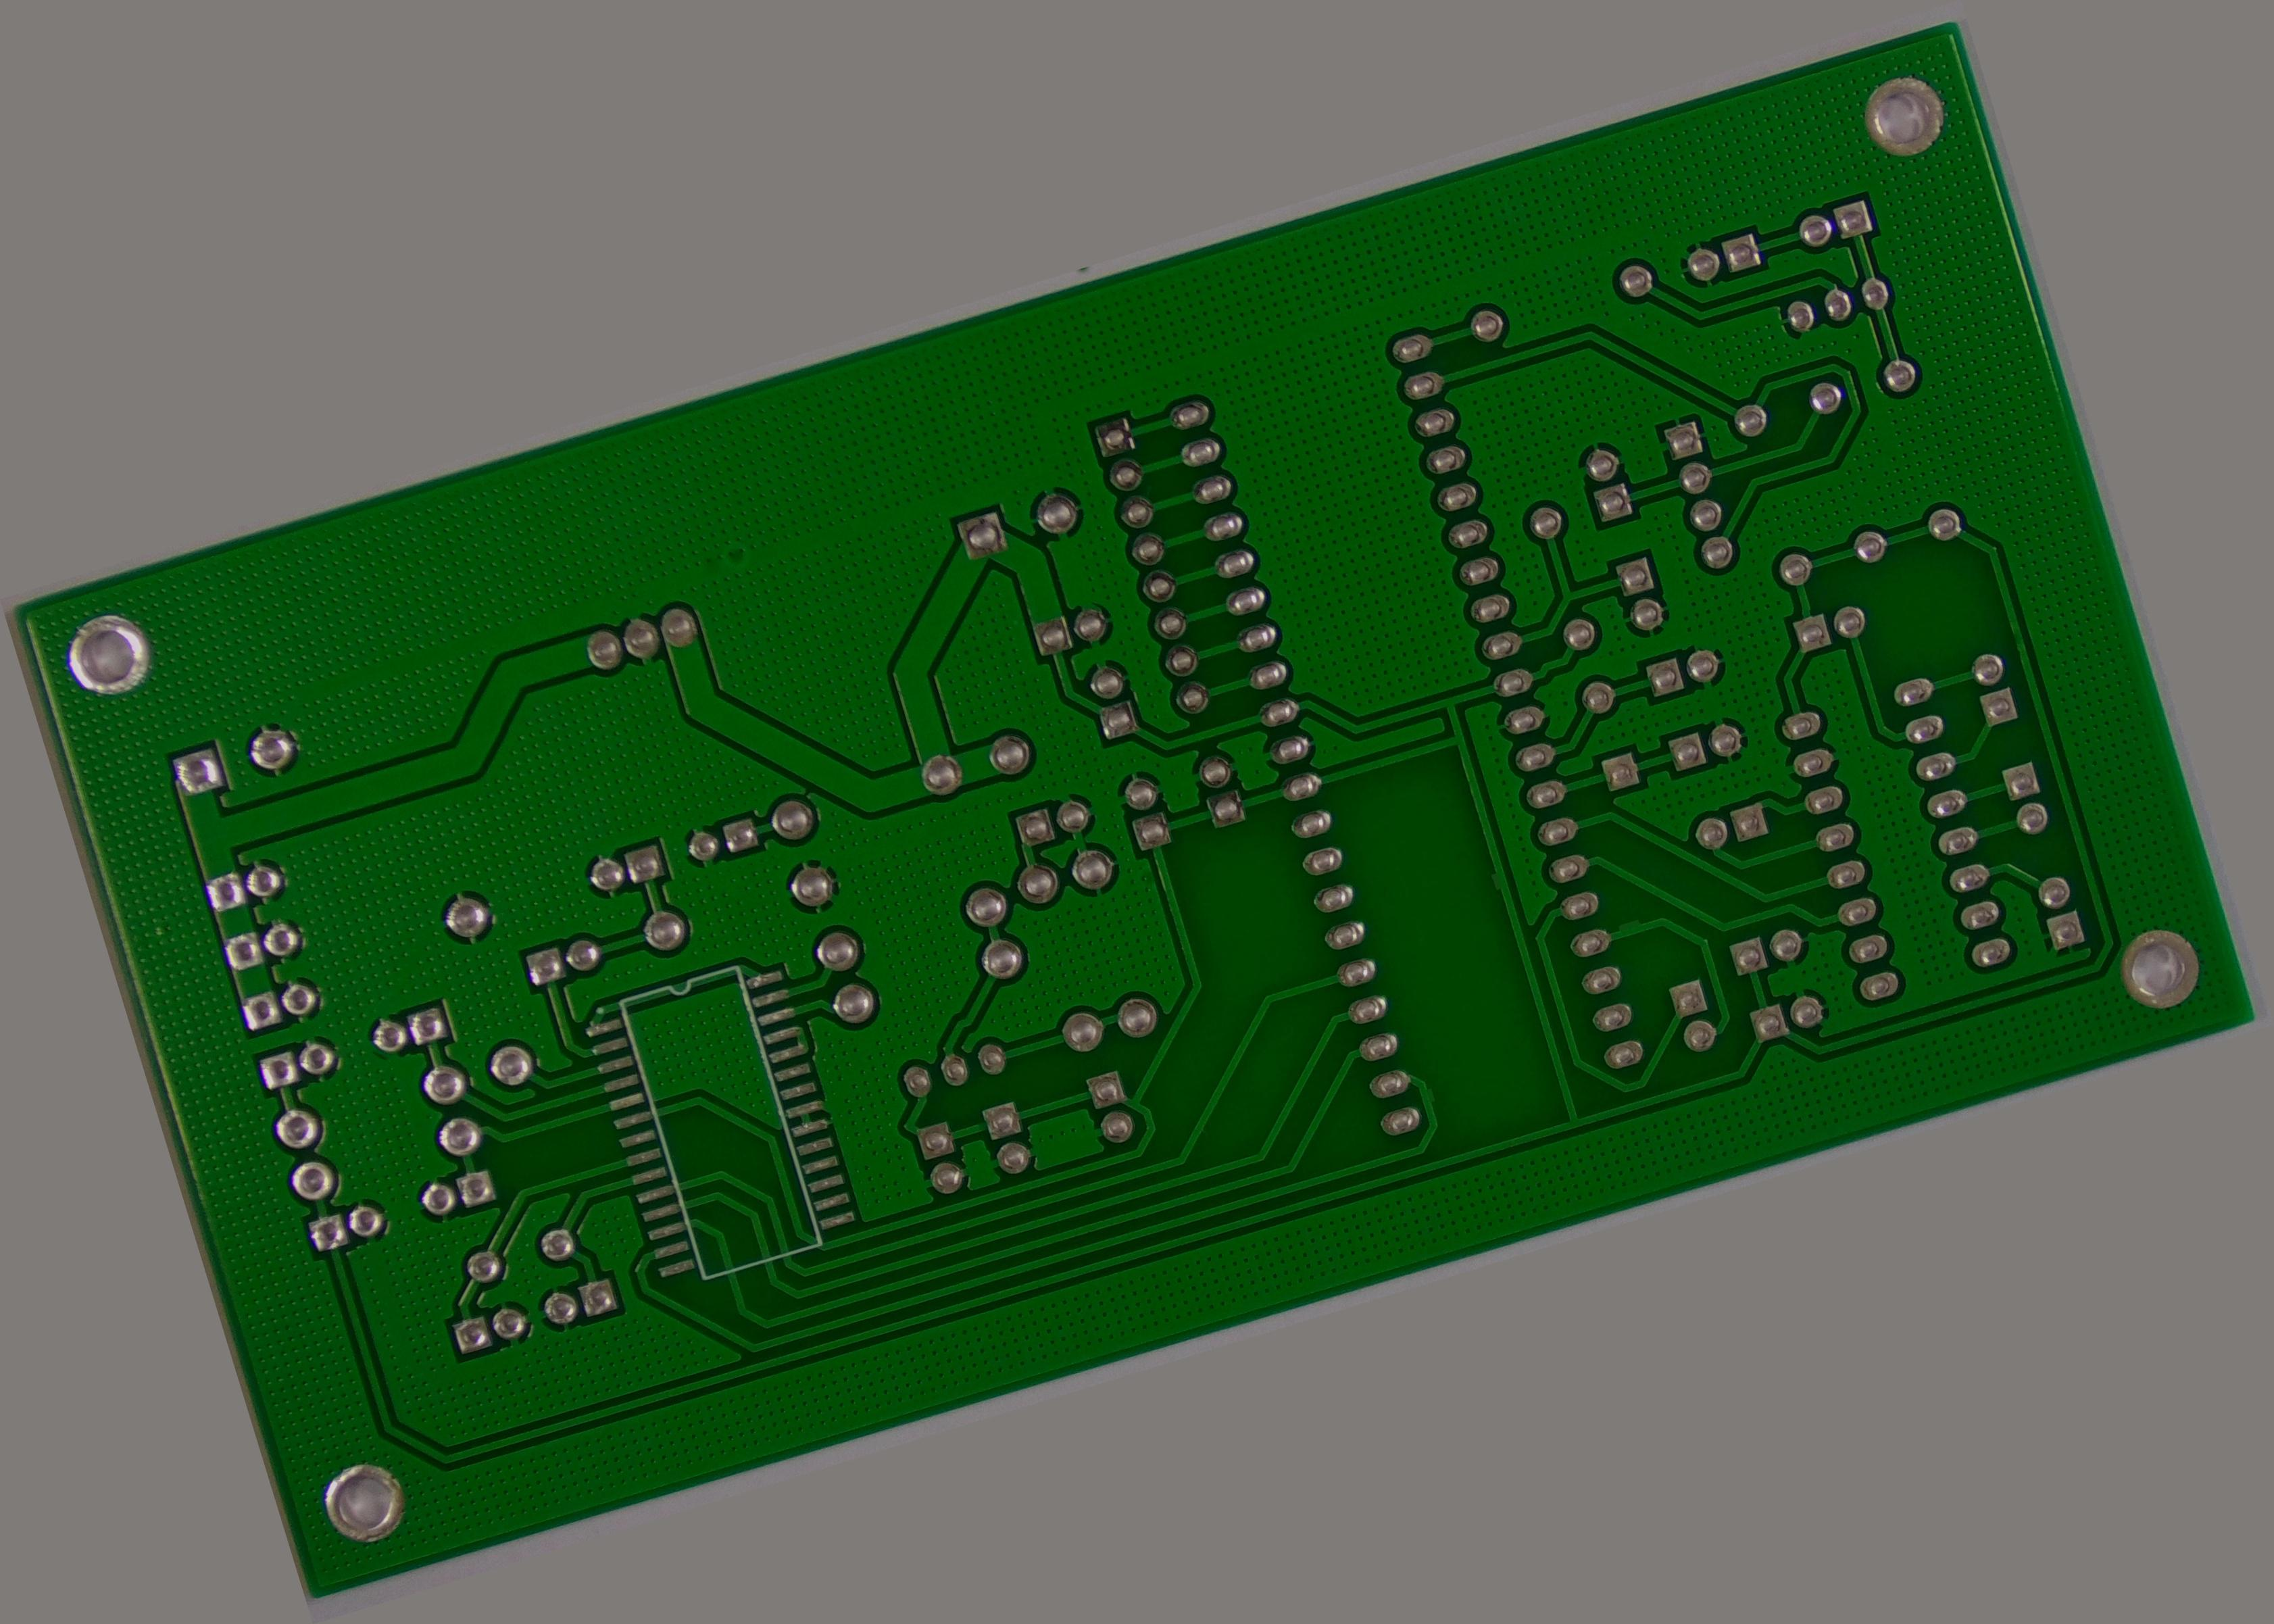spur: (1478, 859, 1515, 900), (1610, 909, 1652, 944)
